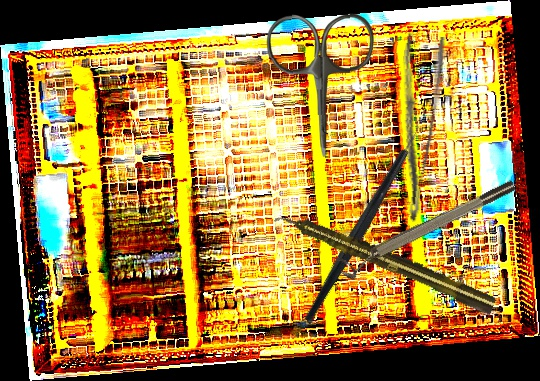Chopper: (246, 108, 478, 326)
Dressing Forceps: (378, 31, 449, 223)
Fixation Ring: (335, 176, 521, 283)
Handpiece: (272, 204, 498, 317)
Iris Scissors: (265, 13, 378, 159)
